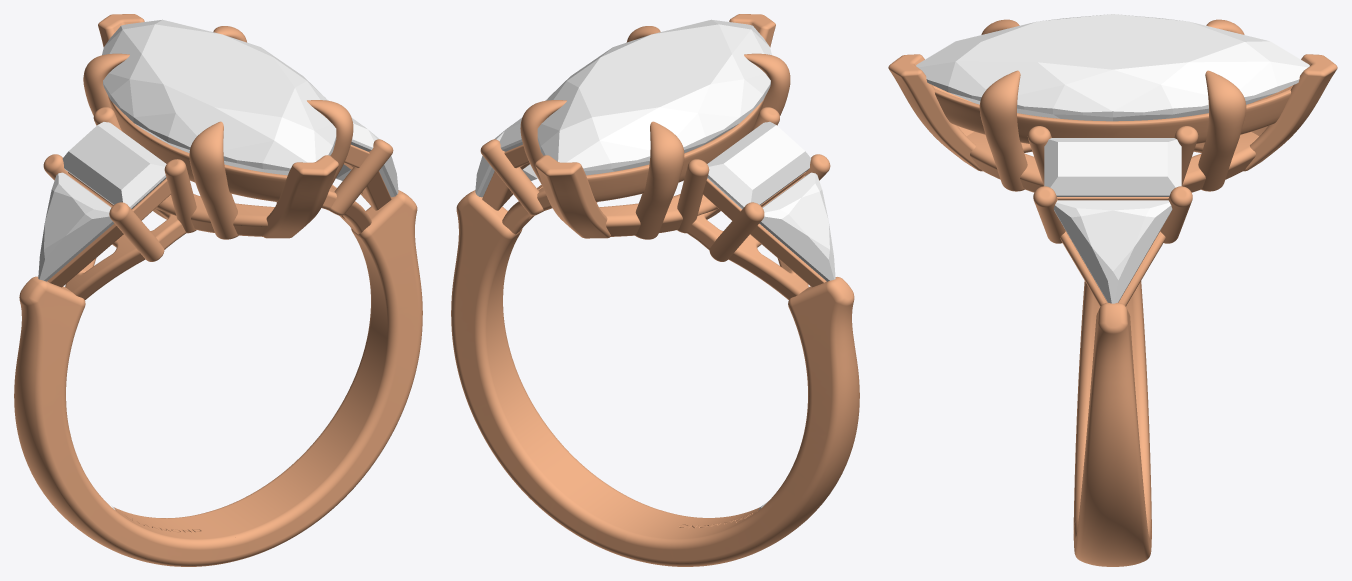
File: baguette-tiger-ring.glb
The picture shows the model from 3 angles, left to right: view 1: azimuth 30°, elevation 25°; view 2: azimuth 150°, elevation 25°; view 3: azimuth 270°, elevation 25°; orthographic projection. The views are drawn at different scales.
Visible parts, largest first — view 1: /378-5.00ct marquise solitaire side triangle baguette tiger , Diamond_Marquise, Diamond_Baguette Straight, Diamond_Triangle (×2); view 2: /378-5.00ct marquise solitaire side triangle baguette tiger , Diamond_Marquise, Diamond_Baguette Straight, Diamond_Triangle (×2); view 3: /378-5.00ct marquise solitaire side triangle baguette tiger , Diamond_Marquise, Diamond_Baguette Straight, Diamond_Triangle.
Part boxes in pixels (x1,y1,x2,y2): /378-5.00ct marquise solitaire side triangle baguette tiger : (14, 14, 422, 566); Diamond_Marquise: (102, 19, 336, 175); Diamond_Baguette Straight: (62, 122, 166, 209); Diamond_Triangle (×2): (38, 126, 398, 281); /378-5.00ct marquise solitaire side triangle baguette tiger : (451, 14, 859, 566); Diamond_Marquise: (537, 19, 771, 175); Diamond_Baguette Straight: (707, 121, 811, 209); Diamond_Triangle (×2): (475, 126, 835, 281); /378-5.00ct marquise solitaire side triangle baguette tiger : (888, 19, 1337, 566); Diamond_Marquise: (916, 14, 1309, 121); Diamond_Baguette Straight: (1044, 138, 1181, 196); Diamond_Triangle: (1053, 200, 1172, 303).
Size of the model in its own units: 2.22 by 2.58 by 2.09.
